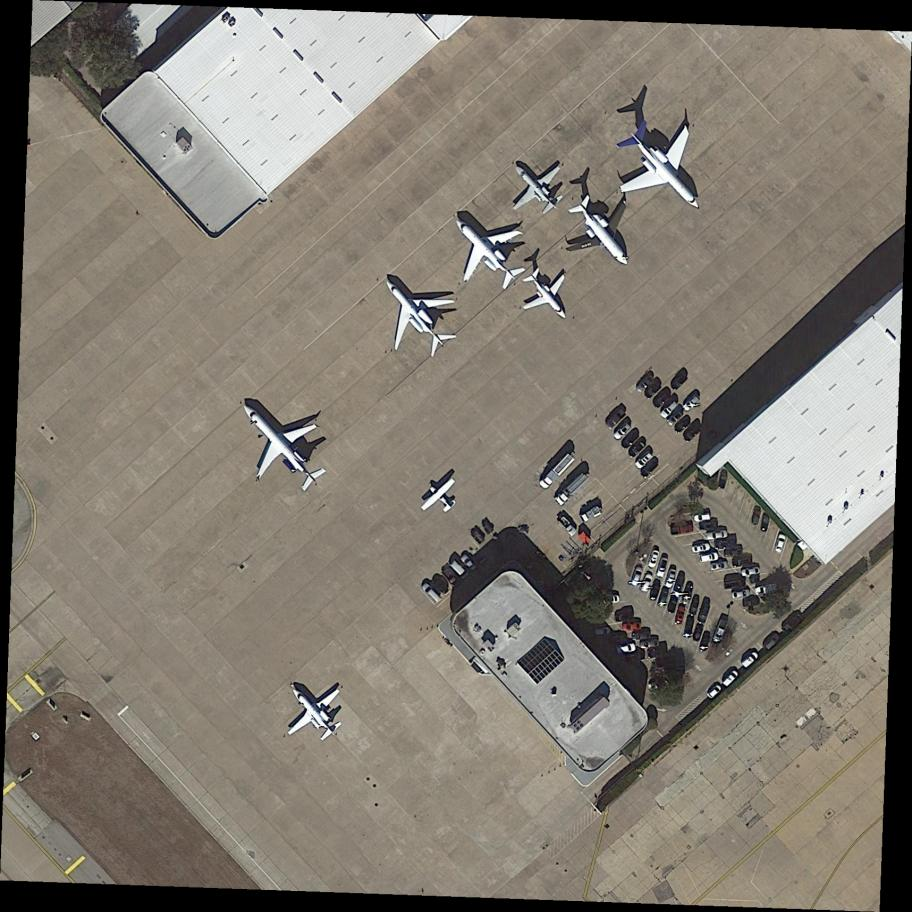large-vehicle: (539, 450, 577, 490), (554, 471, 590, 508)
plane: (597, 99, 736, 238), (217, 378, 347, 512), (360, 256, 476, 373), (432, 193, 544, 305), (548, 177, 654, 283), (268, 666, 360, 756), (496, 145, 579, 227), (510, 256, 588, 335), (415, 473, 468, 524)
small-vehicle: (421, 583, 442, 605), (605, 408, 626, 429), (782, 612, 801, 633), (613, 422, 632, 441), (660, 400, 679, 419), (621, 430, 640, 449), (628, 439, 647, 458), (442, 568, 461, 587), (713, 619, 728, 643), (581, 506, 602, 523), (637, 374, 655, 393), (635, 451, 654, 469), (640, 460, 659, 478), (559, 517, 577, 536), (450, 561, 468, 579), (722, 669, 739, 688), (741, 652, 759, 669), (671, 373, 688, 391), (683, 393, 700, 411), (764, 633, 781, 651), (667, 409, 684, 426), (461, 554, 477, 572), (646, 549, 661, 568), (656, 557, 669, 578), (706, 684, 723, 700), (654, 391, 671, 407), (684, 425, 700, 442), (433, 577, 449, 594), (645, 382, 661, 398), (674, 418, 690, 434), (670, 524, 693, 535), (756, 584, 777, 596), (640, 573, 653, 592), (665, 569, 677, 588), (631, 566, 643, 585), (698, 603, 710, 622), (682, 584, 694, 603), (649, 581, 661, 600), (615, 643, 635, 654), (658, 587, 669, 607), (775, 534, 787, 552), (674, 606, 686, 624), (693, 623, 704, 642), (674, 575, 685, 594), (667, 594, 678, 613), (708, 530, 728, 540), (699, 553, 719, 563), (698, 521, 718, 531), (699, 634, 710, 652), (692, 543, 711, 553), (731, 589, 750, 599), (632, 632, 651, 642), (724, 580, 745, 589), (639, 640, 659, 649), (684, 619, 694, 637), (646, 649, 665, 658), (741, 567, 760, 576), (694, 513, 711, 522), (711, 561, 728, 570), (610, 635, 627, 644), (690, 598, 699, 614), (604, 595, 620, 604), (760, 515, 769, 531), (733, 559, 752, 566), (719, 472, 727, 488), (615, 614, 633, 621), (624, 623, 640, 630), (753, 510, 761, 524), (716, 541, 732, 548), (594, 628, 609, 635), (725, 550, 742, 556)
